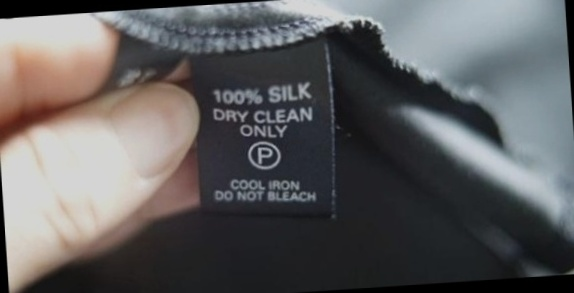dry_clean_any_solvent_except_trichloroethylene: (247, 138, 283, 171)
